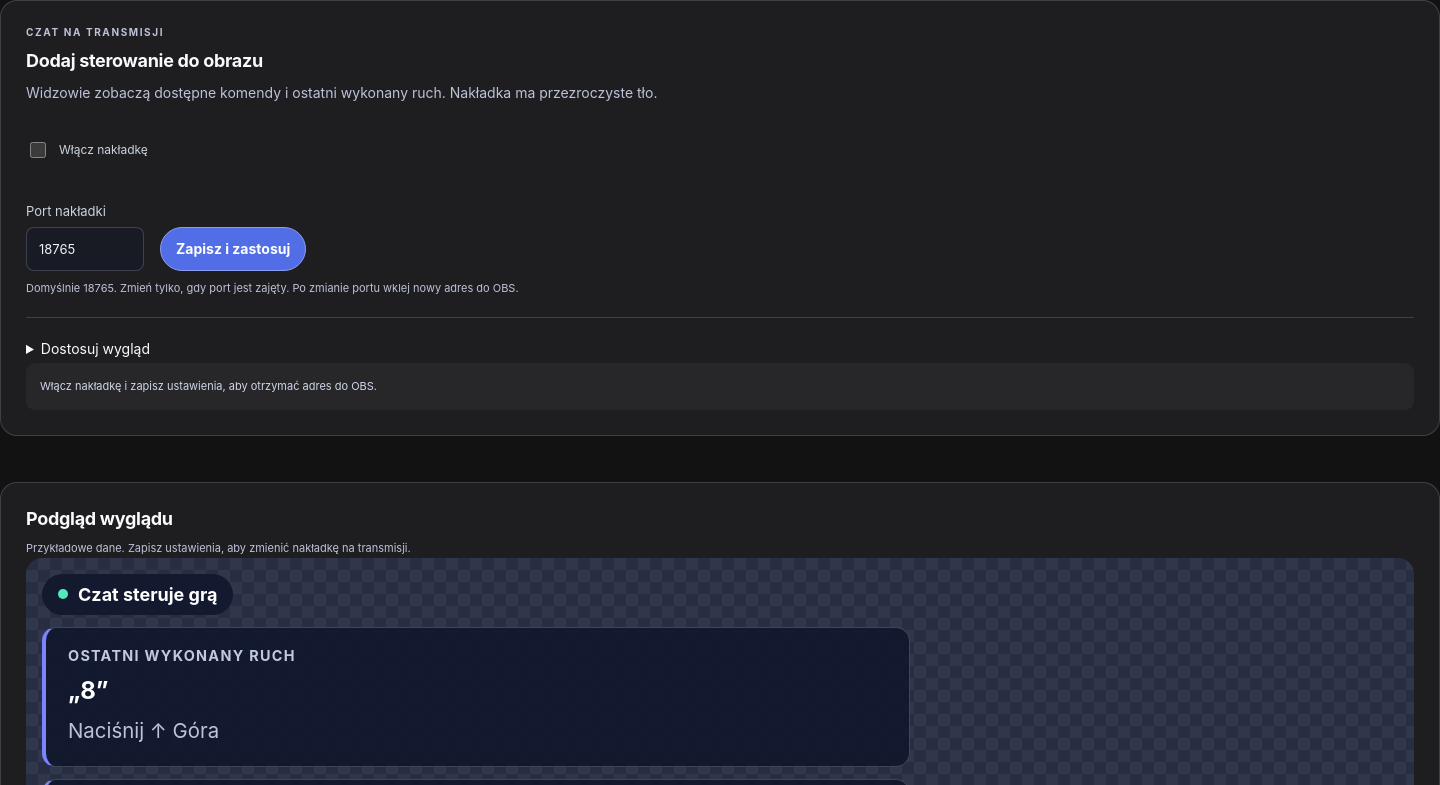
Test: starts hidden-author overlay through protected settings and exposes copyable URL
Click the checkbox labelled "Włącz nakładkę" at (38, 150), box [30,142,46,158]
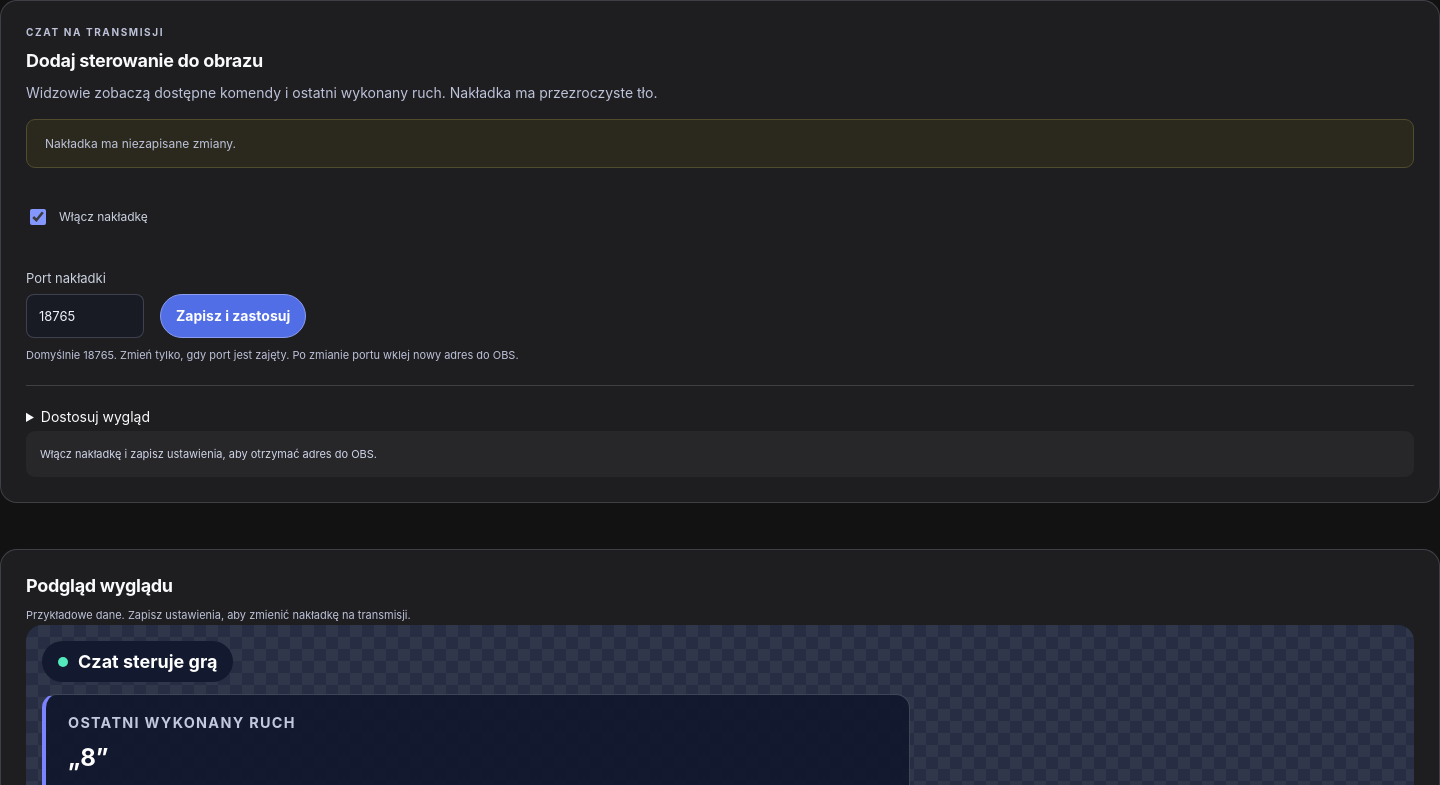
Click the button "Zapisz i zastosuj" at (233, 316), box [160,294,306,338]
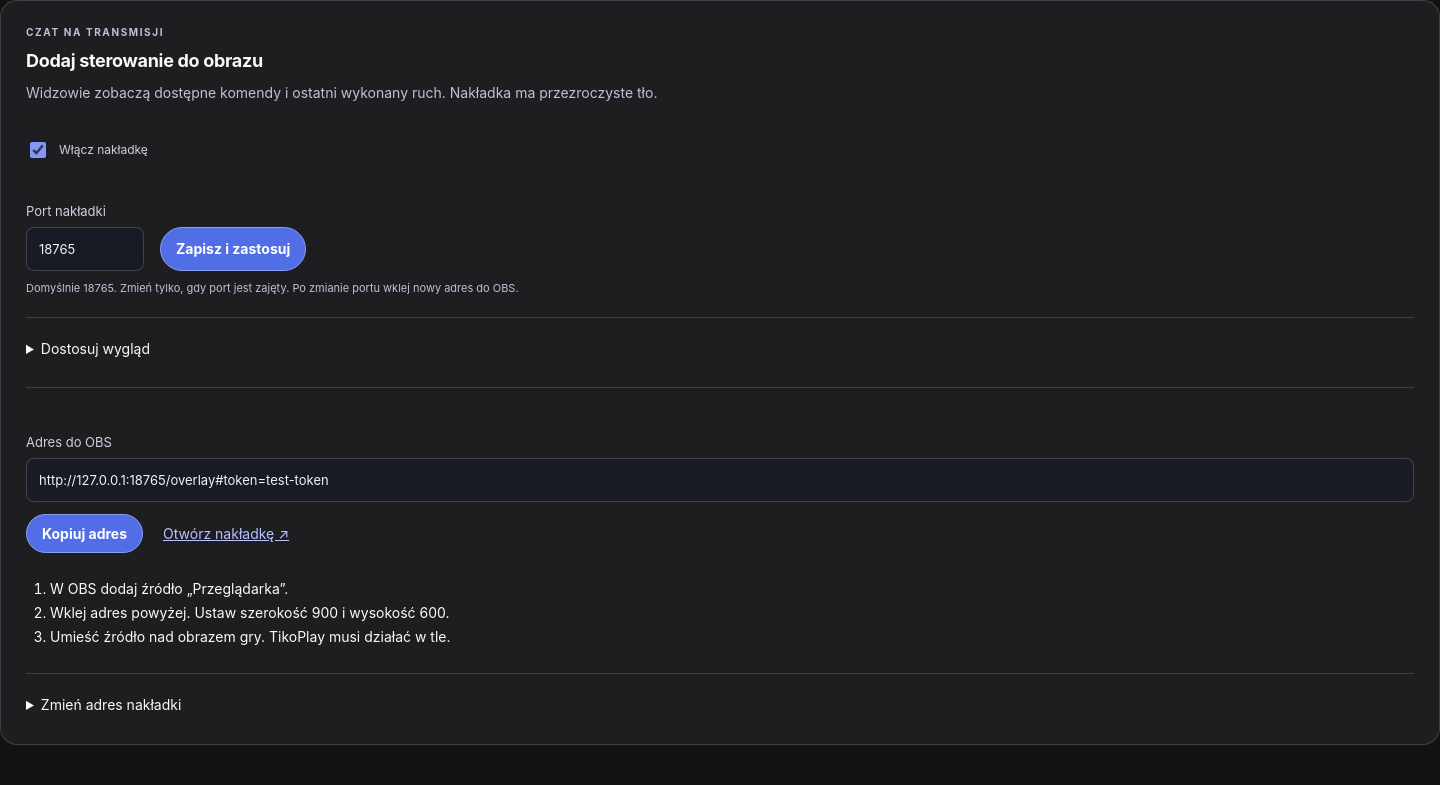
Now the field labelled "Adres do OBS" holds "http://127.0.0.1:18765/overlay#token=test-token", box [26,458,1414,502]
